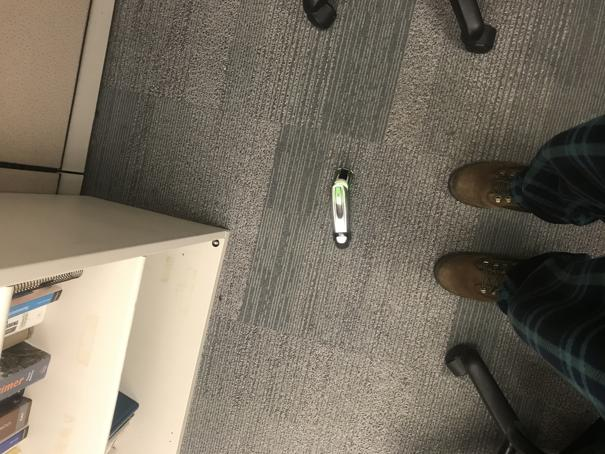Freewheel: (329, 168, 356, 249)
